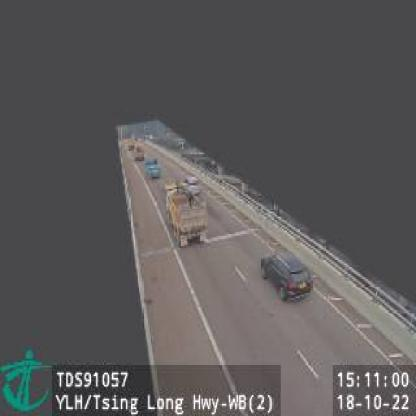Car: (258, 254, 312, 302), (144, 158, 161, 177)
Truck: (166, 182, 209, 245)
